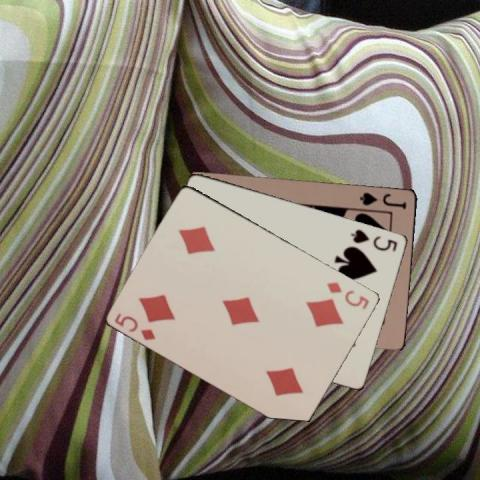5d: (324, 279, 371, 311), (112, 310, 157, 342)
5s: (347, 226, 400, 253)
Js: (357, 189, 408, 210)
